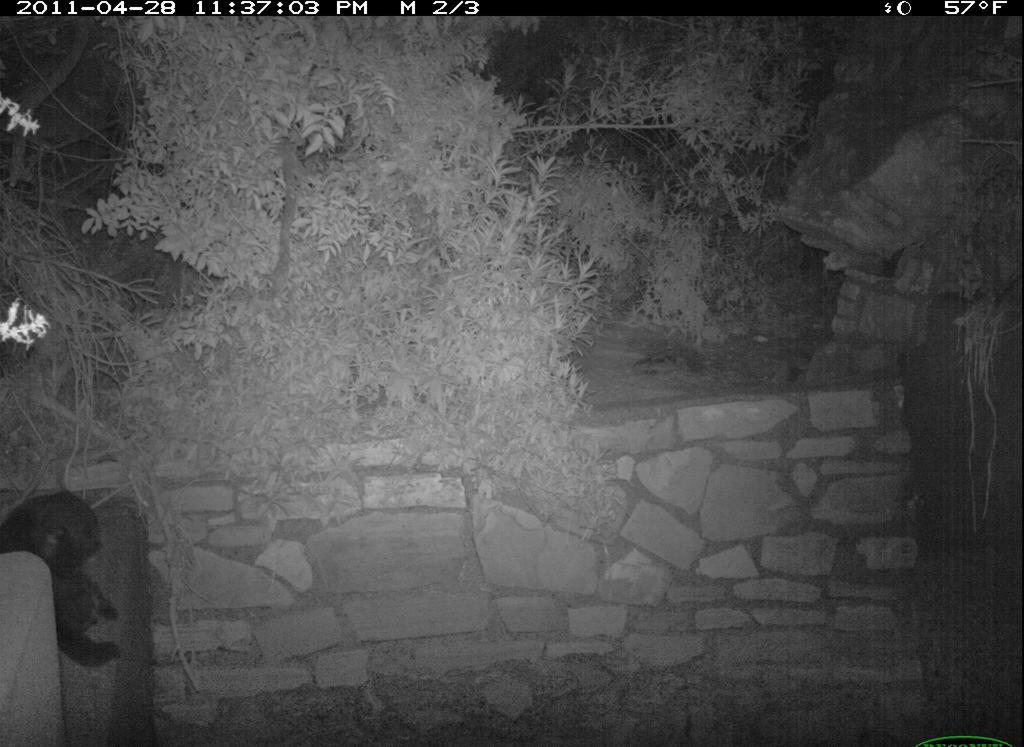cat: (1, 459, 155, 674)
